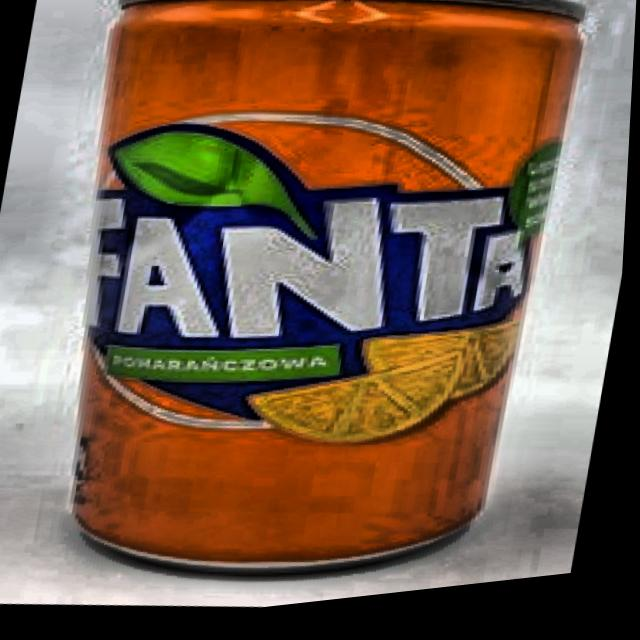Cans: (0, 0, 640, 638)
